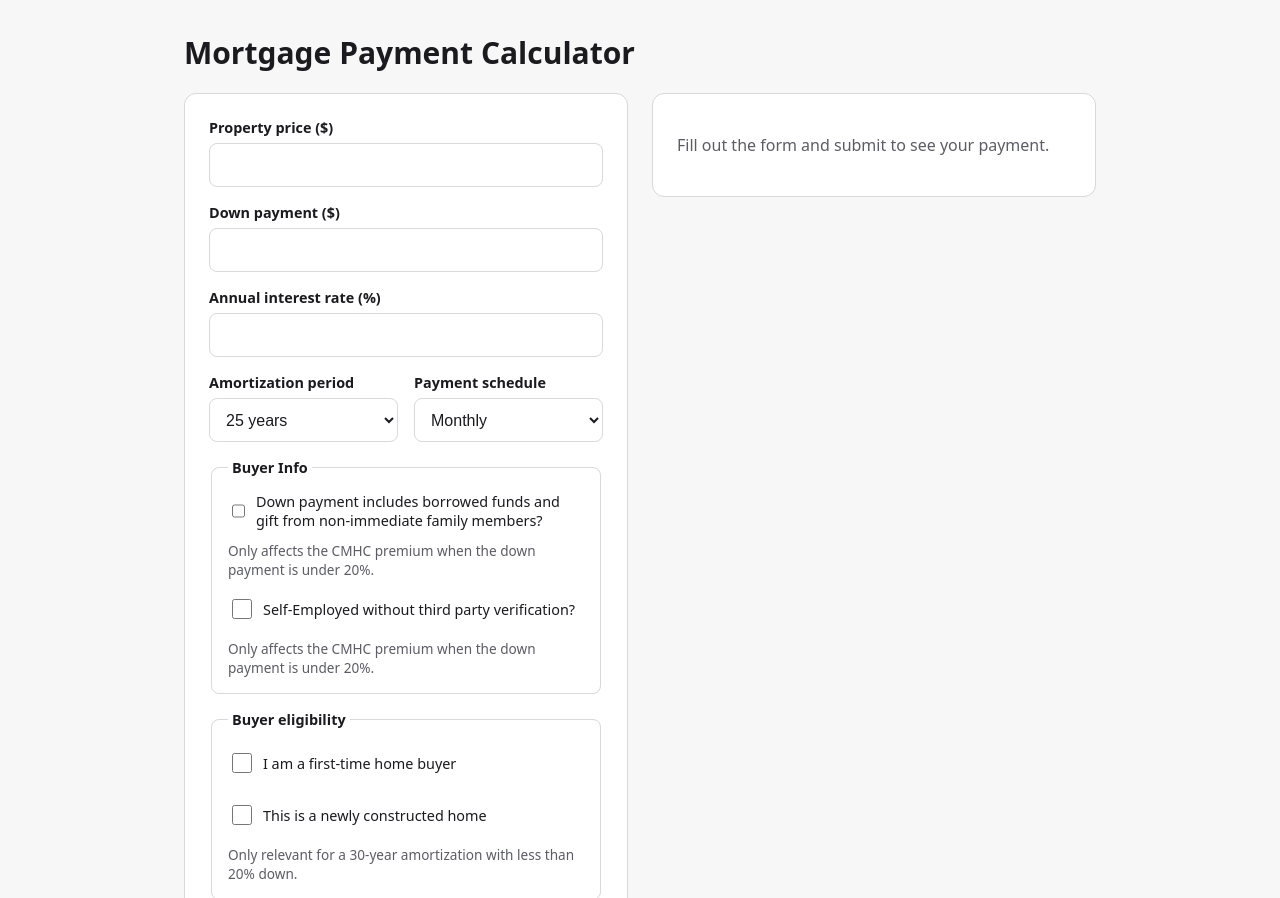
Test: App › says when a non-traditional down payment does raise the premium
// 33% down falls in the 5-9.99% band, where the tables differ.
Type "1200000" into the field labelled "Property price ($)" at x=406, y=165, box [209, 143, 603, 187]
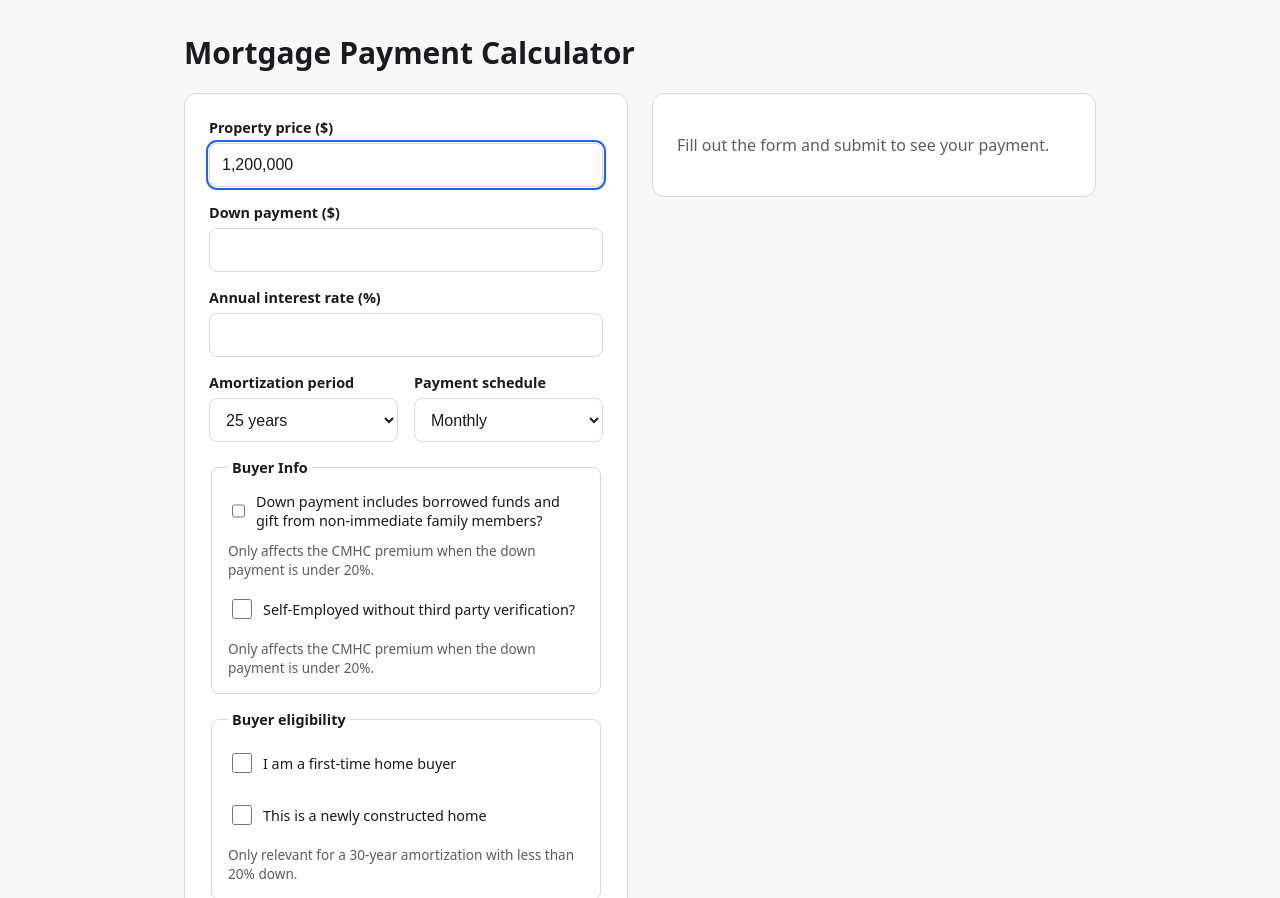
Type "100000" into the field labelled "Down payment ($)" at x=406, y=250, box [209, 228, 603, 272]
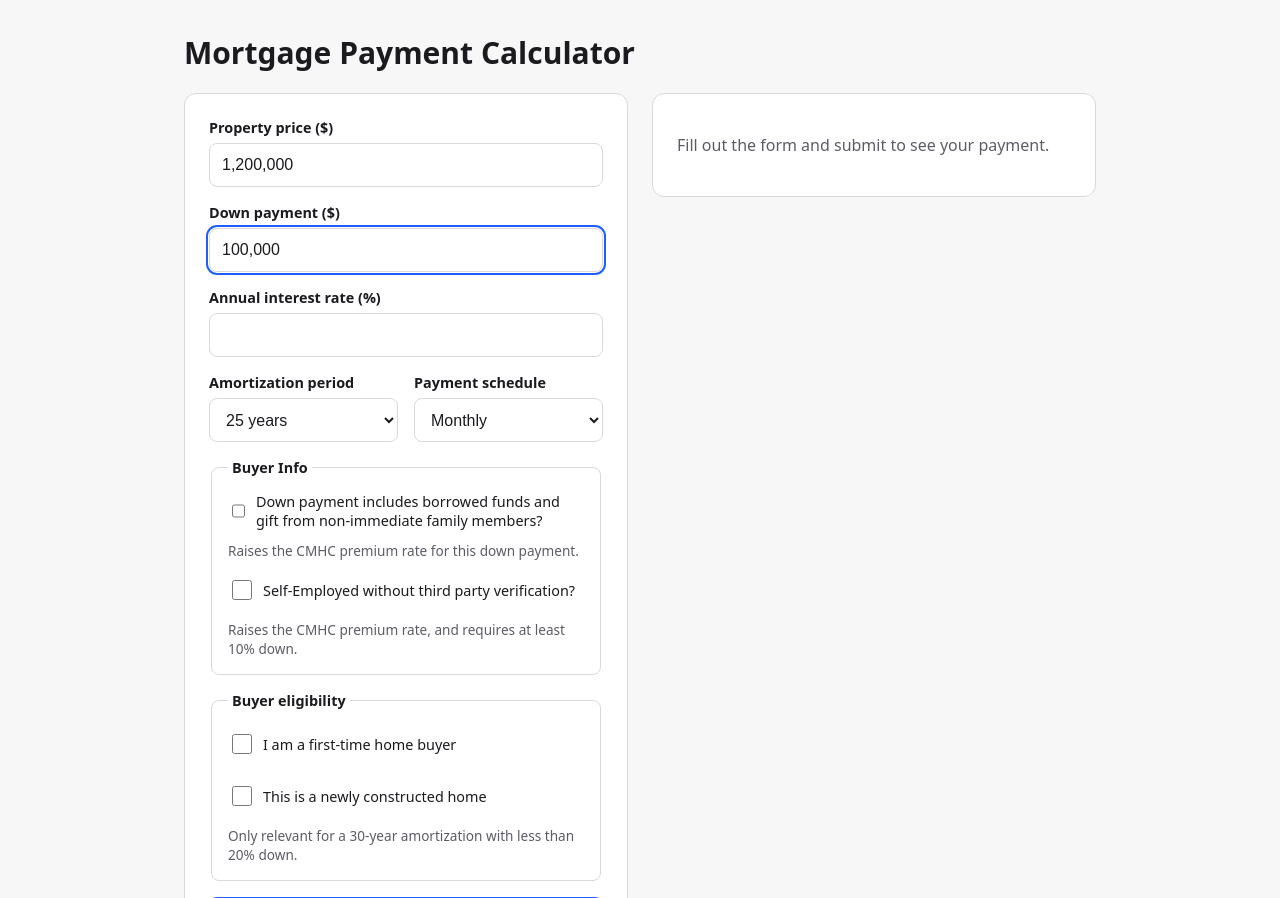
Expected: the text "Raises the CMHC premium rate for this down payment." is shown, [228, 541, 584, 560]
